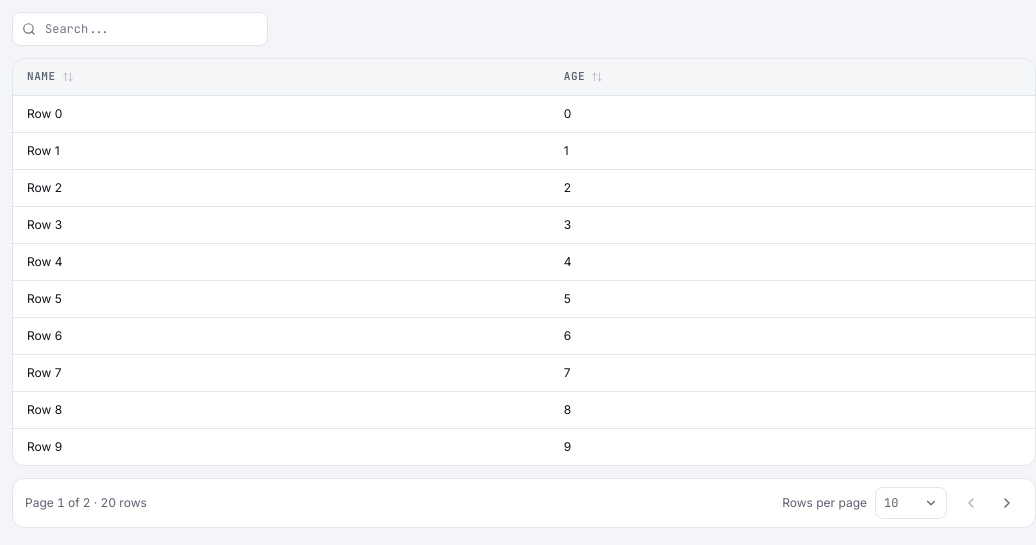
Test: DataTable › paginates once the row count exceeds pageSize
Expected: the text "Page 1 of 2 · 20 rows" is shown, [25,495,147,511]
Expected: the button named "Previous page" is disabled, [955,487,987,519]
Step 1. Click the button named "Next page" → [1007, 503], box [991,487,1023,519]
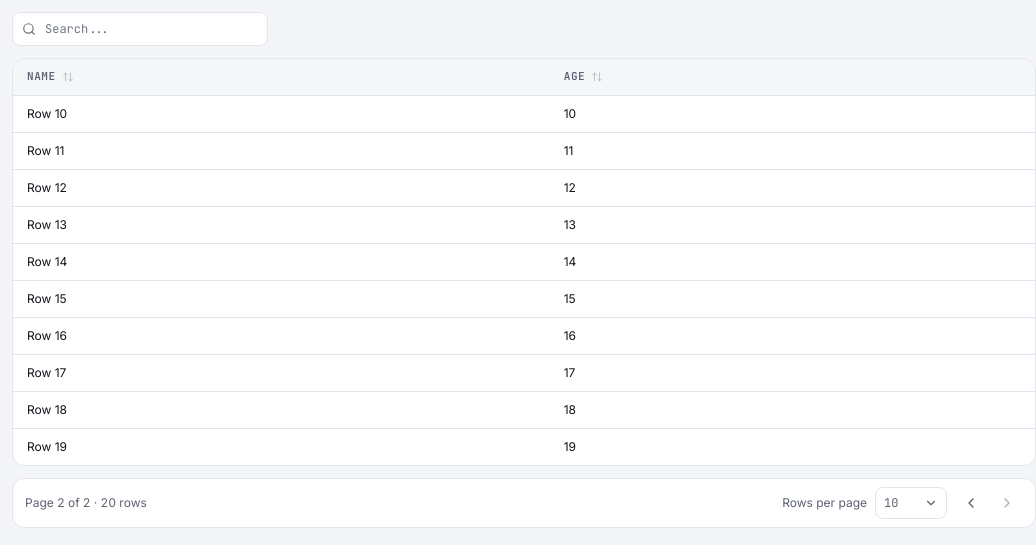
Now the text "Page 2 of 2 · 20 rows" is shown, box [25,495,147,511]
